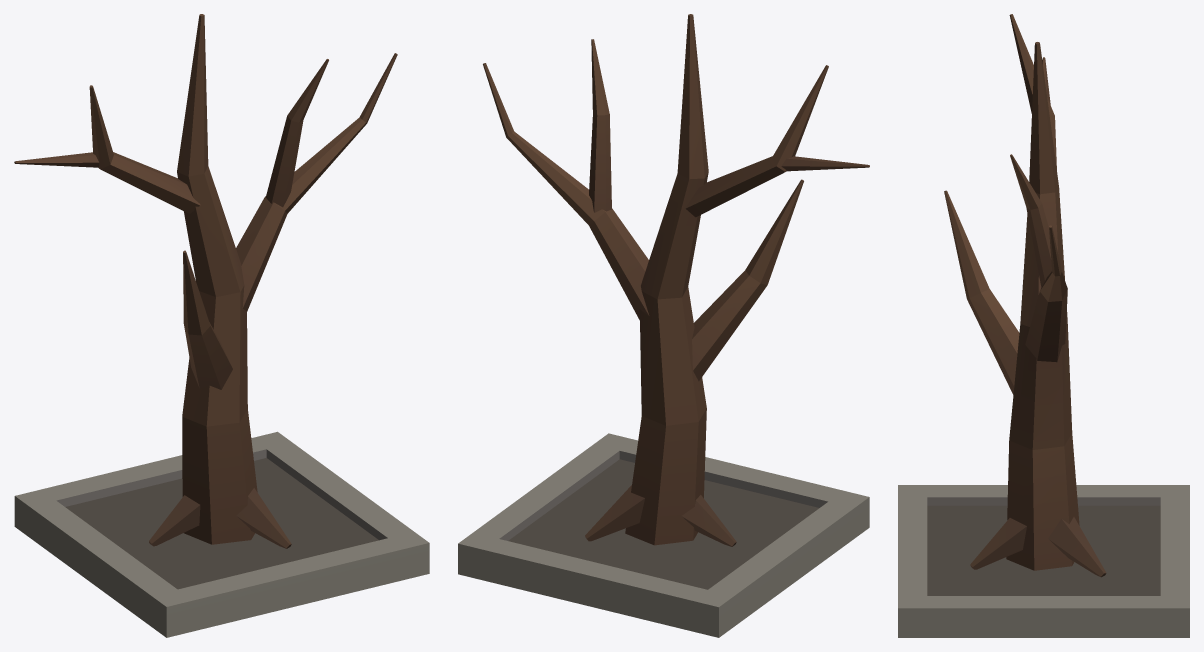
File: AC_PlanterTree.glb
The picture shows the model from 3 angles, left to right: view 1: azimuth 30°, elevation 25°; view 2: azimuth 150°, elevation 25°; view 3: azimuth 270°, elevation 25°; orthographic projection. The views are drawn at different scales.
Visible parts, largest first — view 1: AC_PlanterTree__Body; view 2: AC_PlanterTree__Body; view 3: AC_PlanterTree__Body.
Part boxes in pixels (bbox=[...]): AC_PlanterTree__Body: bbox=[14, 14, 429, 637]; AC_PlanterTree__Body: bbox=[458, 14, 869, 637]; AC_PlanterTree__Body: bbox=[898, 14, 1189, 637].
Bounding box in the file's own units: 11.74 × 15.95 × 8.
